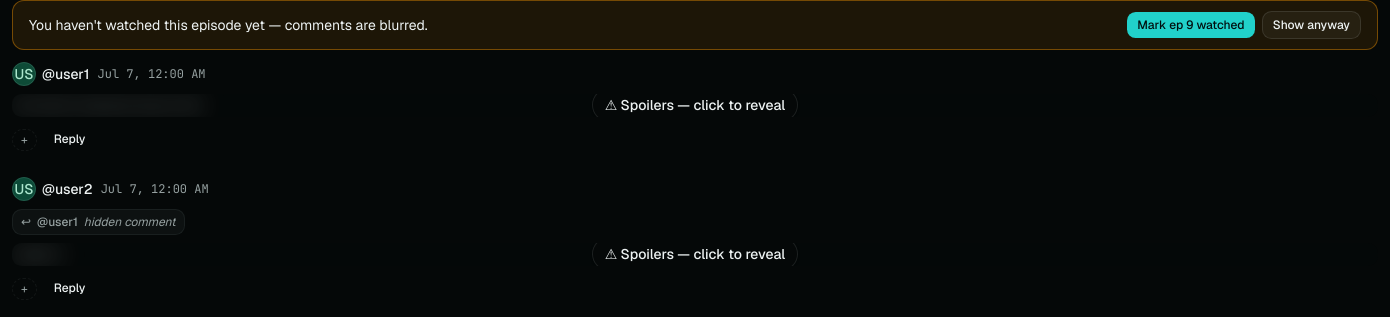
Scenario: EpisodeSpoilerShield › offers mark-watched on the viewer's next episode and clears on success
Expected: the text "You haven't watched this episode yet — comments are blurred." is shown, [29,16,428,34]
Click the button "Mark ep 9 watched" at coordinates (1191, 25), box [1126,11,1256,39]
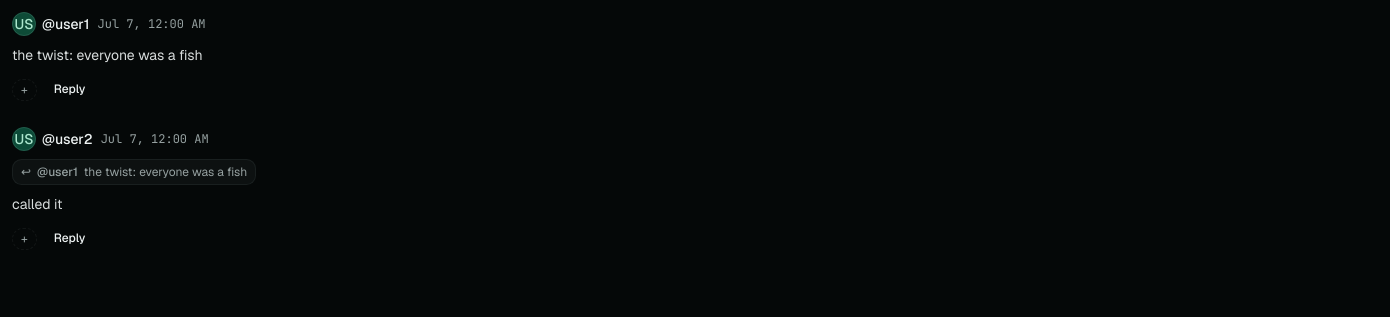
Result: the text "comments are blurred" is gone
Result: no elements with test id "spoiler-guard" are shown
